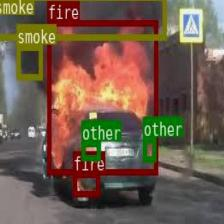fire: (46, 20, 158, 173), (72, 171, 100, 196)
smoke: (0, 0, 165, 38), (17, 44, 42, 78)
